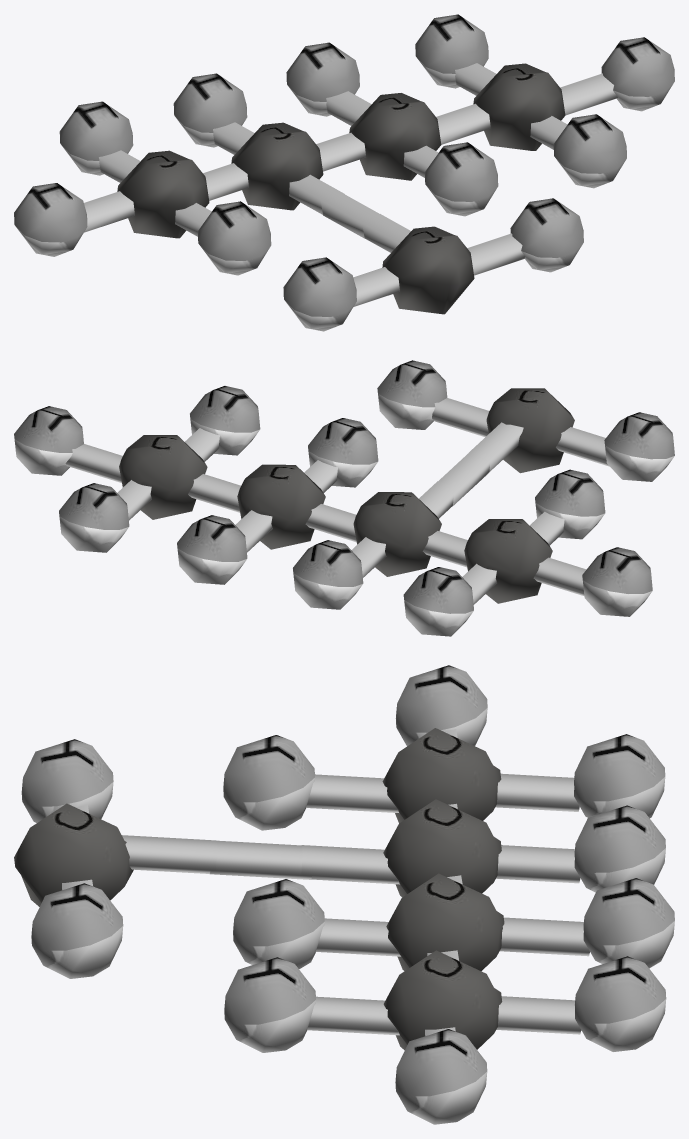
The model's file is Branch.fbx.
3 views of the same model, one above another, from view 1: azimuth 30°, elevation 25°; view 2: azimuth 150°, elevation 25°; view 3: azimuth 270°, elevation 25° (orthographic). The views are drawn at different scales.
Visible parts, largest first — view 1: Branched; view 2: Branched; view 3: Branched.
Part boxes in pixels (bbox=[...]): Branched: bbox=[14, 14, 674, 331]; Branched: bbox=[14, 360, 674, 636]; Branched: bbox=[14, 665, 674, 1124].
Size of the model in its own units: 69.15 by 7.95 by 47.51.
2 materials, 1 textured.
